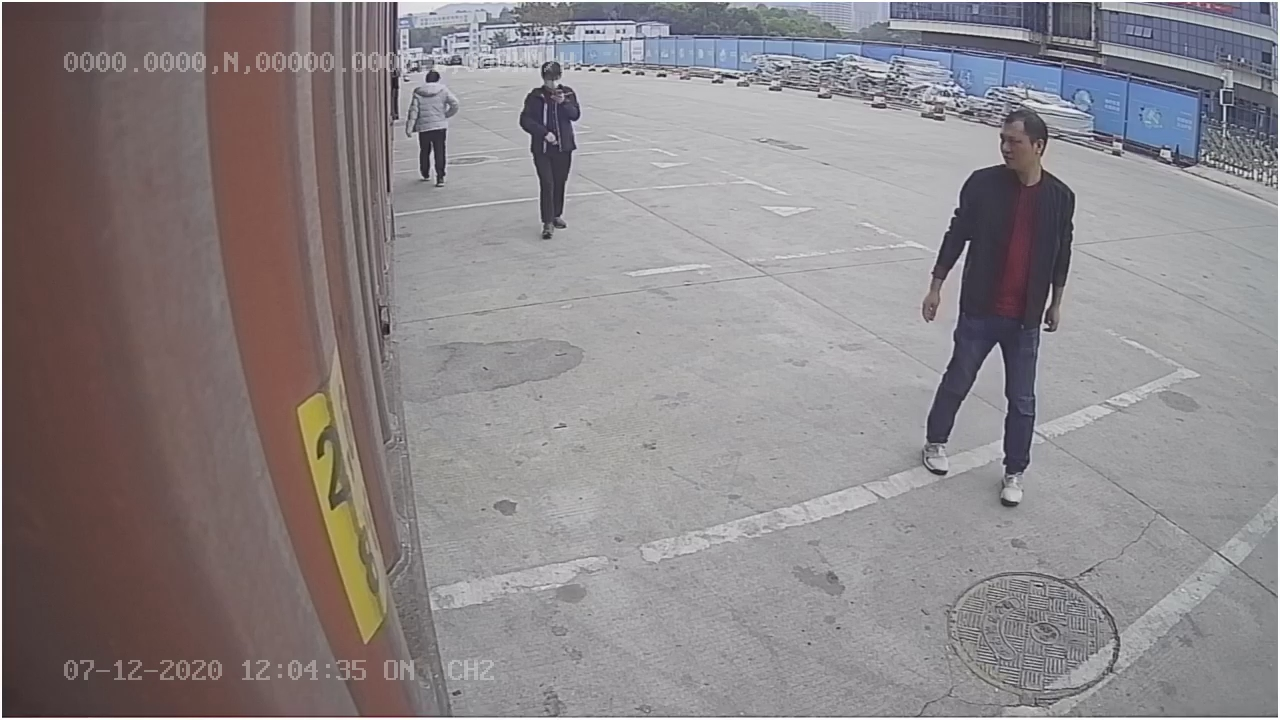person: (921, 105, 1077, 513)
